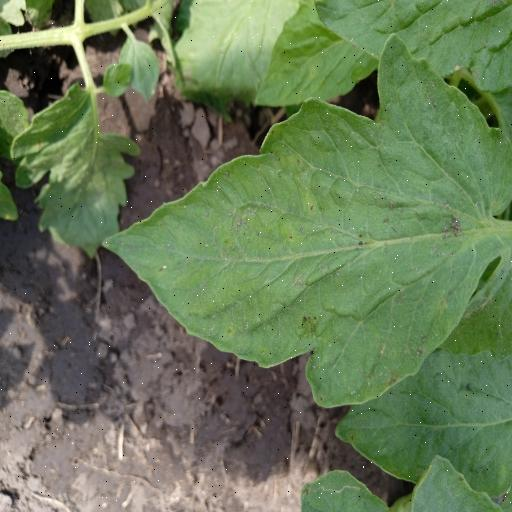Tomato_Mildiou: (91, 24, 512, 416)
